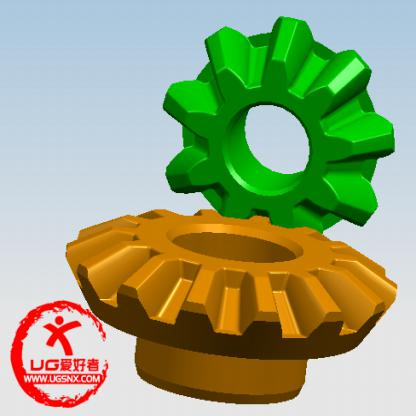FOD: (62, 204, 402, 410), (158, 14, 399, 233)
